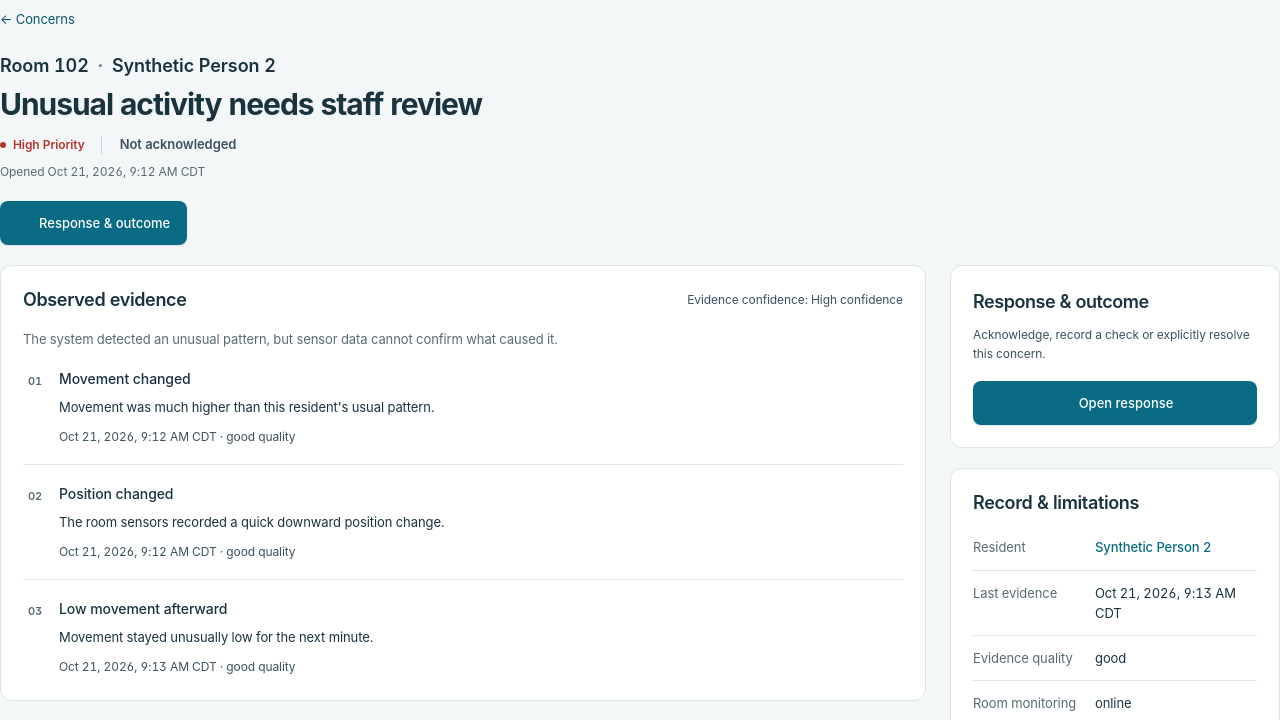
care workspace › opens response actions from the detail heading instead of exposing a duplicate inline form
The width and height of the screenshot is (1280, 720).
Expected: the button "Acknowledge concern" is not shown
Click the button "Response & outcome" at (94, 223), box [0, 201, 187, 245]
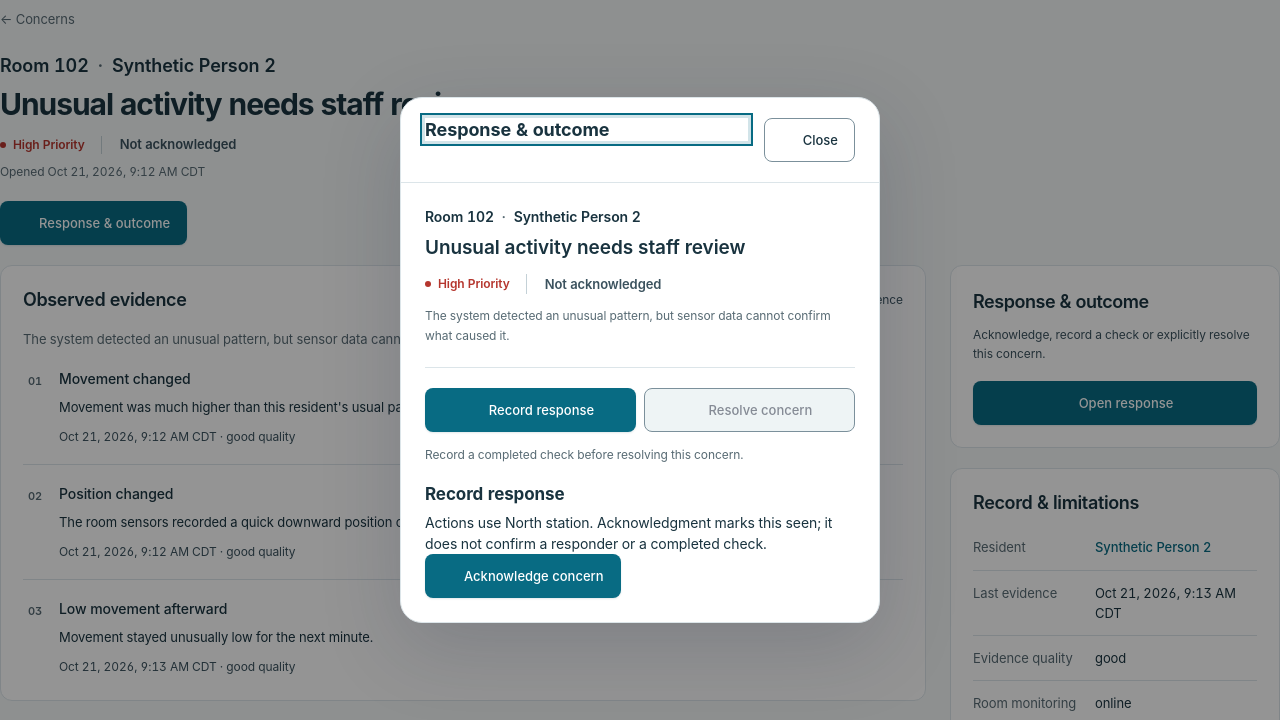
Expected: the button "Acknowledge concern" is shown, [425, 554, 621, 598]
